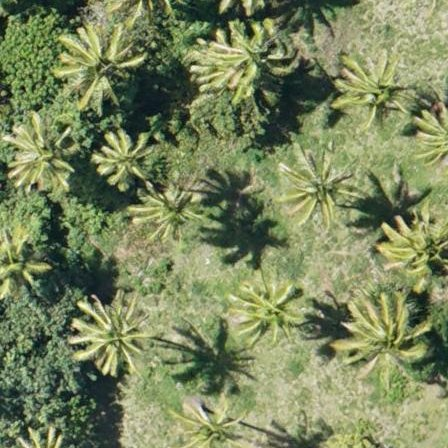palm_tree: (349, 301, 424, 381), (380, 209, 448, 289), (228, 274, 297, 347), (6, 125, 73, 197), (74, 299, 140, 370), (65, 29, 131, 99), (342, 48, 407, 117), (284, 147, 345, 213), (135, 175, 196, 239), (95, 130, 152, 189), (176, 393, 233, 448), (1, 227, 36, 290)
